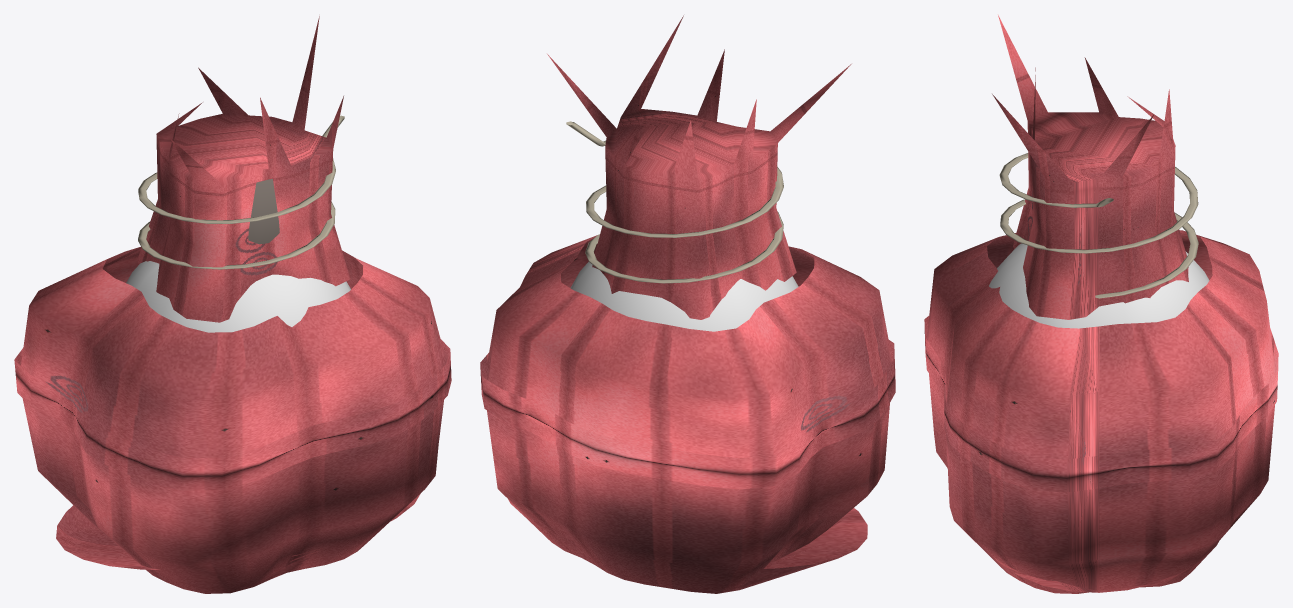
File: bagged_peach.dae
3 views of the same model, side by side, from view 1: azimuth 30°, elevation 25°; view 2: azimuth 150°, elevation 25°; view 3: azimuth 270°, elevation 25° (orthographic).
Parts seen in each view (by area): view 1: bag_body, fruit, tie_wire, inner_paper; view 2: bag_body, fruit, tie_wire; view 3: bag_body, fruit, tie_wire.
Part boxes in pixels (left/top/right/bottom): bag_body: left=14, top=16, right=451, bottom=593; fruit: left=126, top=261, right=350, bottom=332; tie_wire: left=138, top=115, right=344, bottom=269; inner_paper: left=248, top=179, right=279, bottom=244; bag_body: left=480, top=15, right=895, bottom=593; fruit: left=570, top=262, right=798, bottom=331; tie_wire: left=566, top=121, right=783, bottom=283; bag_body: left=924, top=15, right=1278, bottom=593; fruit: left=989, top=243, right=1209, bottom=328; tie_wire: left=999, top=153, right=1198, bottom=298.
Bounding box in the file's own units: 0.0809 × 0.069 × 0.1025.
4 materials, 1 textured.
